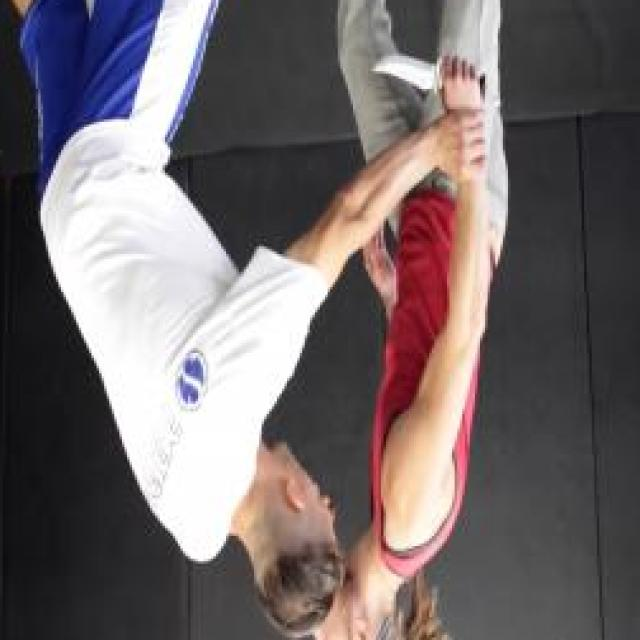knife: (363, 43, 495, 122)
